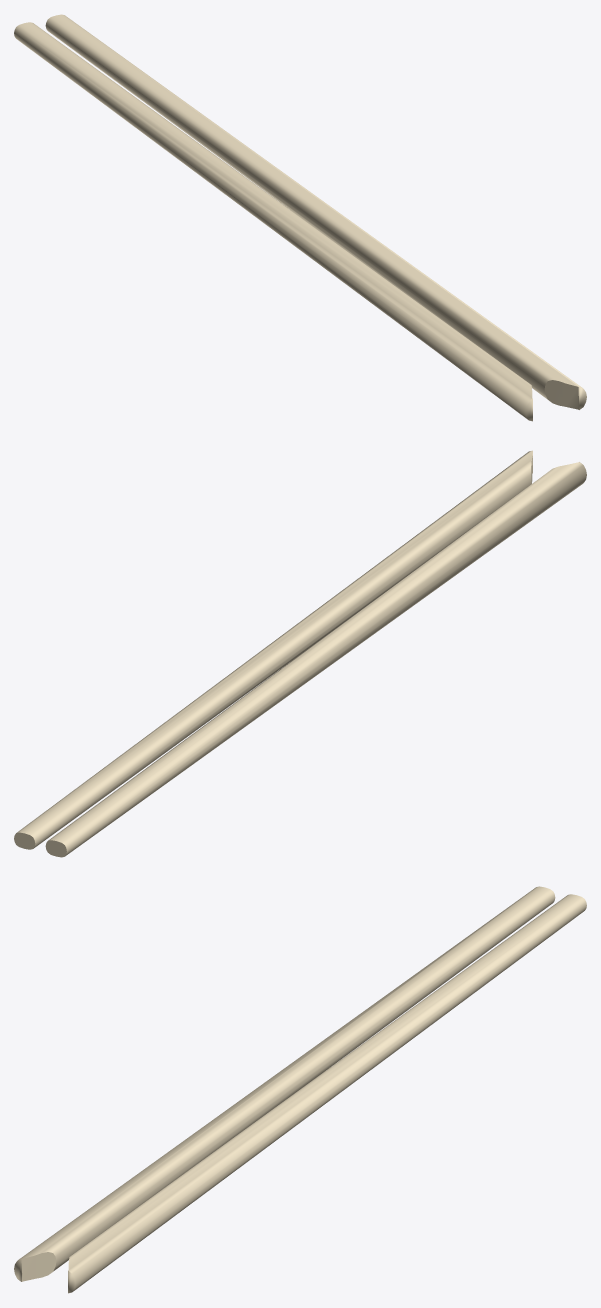
File: sweethome3d-contributions-chopsticks-296.glb
3 renders of one model, top to bottom at view 1: azimuth 30°, elevation 25°; view 2: azimuth 150°, elevation 25°; view 3: azimuth 330°, elevation 25°, orthographic.
Parts seen in each view (by area): view 1: baguette_droite, baguette_gauche; view 2: baguette_gauche, baguette_droite; view 3: baguette_gauche, baguette_droite.
Part boxes in pixels (bbox=[...]): baguette_droite: bbox=[45, 14, 586, 409]; baguette_gauche: bbox=[14, 22, 532, 421]; baguette_gauche: bbox=[45, 462, 586, 857]; baguette_droite: bbox=[14, 450, 532, 849]; baguette_gauche: bbox=[14, 886, 555, 1281]; baguette_droite: bbox=[68, 894, 586, 1293].
Bounding box in the file's own units: 1.45 × 0.5507 × 21.
